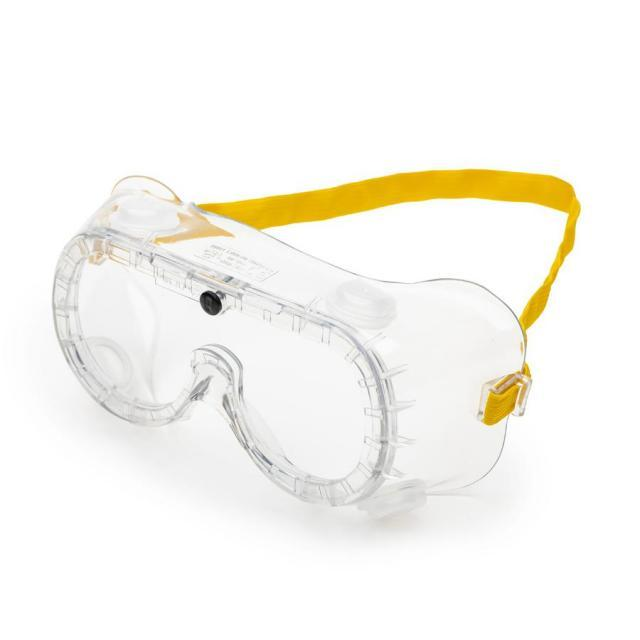Goggles: (43, 157, 594, 526)
